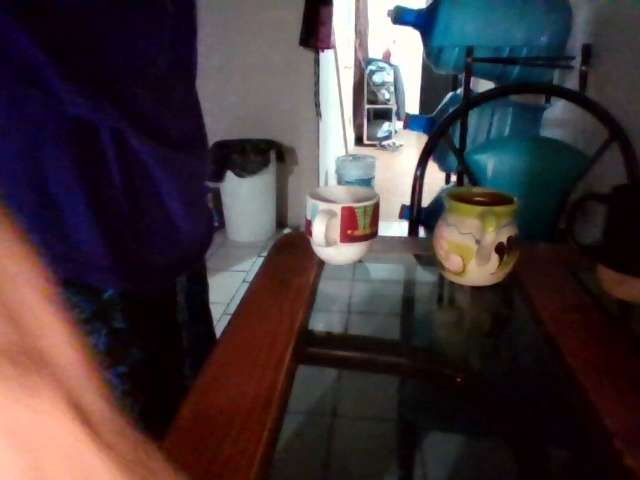taza: (432, 187, 520, 287)
